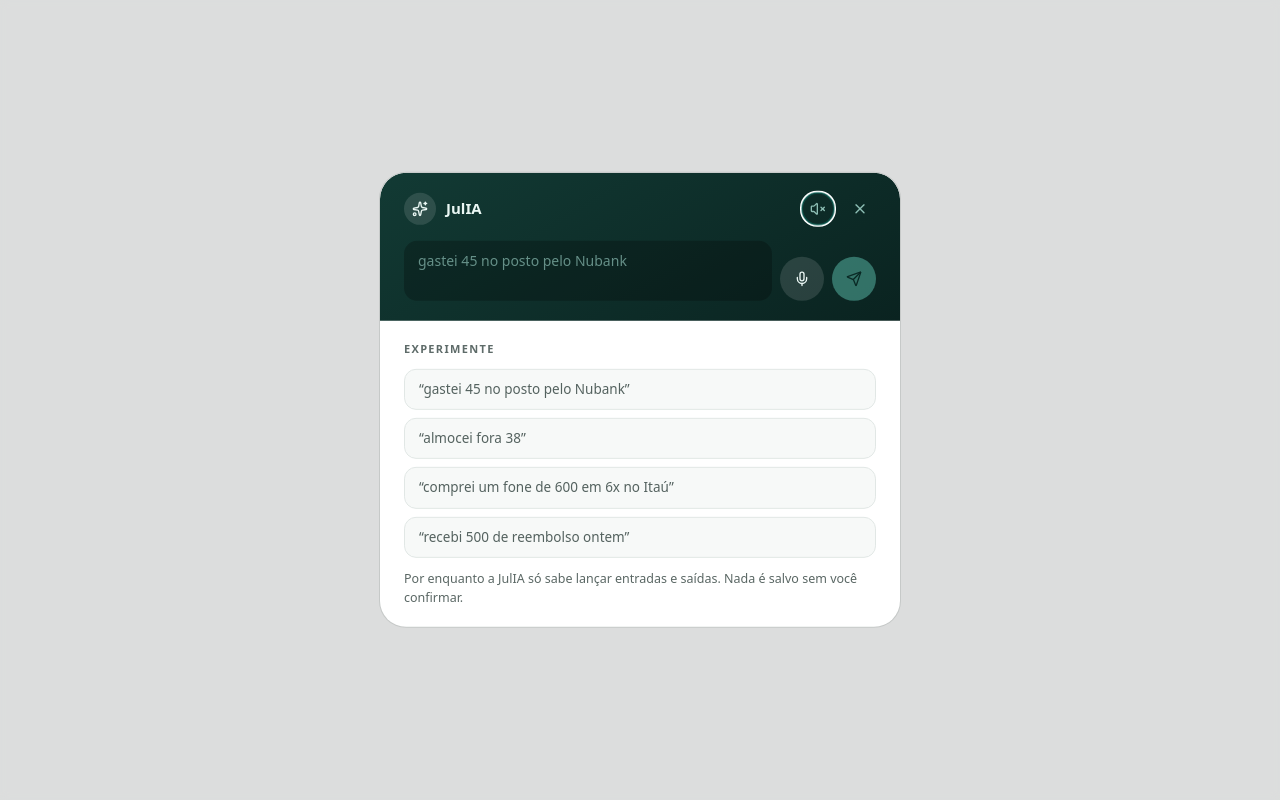
Test case: AssistantSheet › não mostra botão de confirmar quando a IA não propõe ação
Type "apaga tudo" into the text box with placeholder "gastei 45 no posto pelo Nubank" at (588, 271), box [404, 241, 772, 301]
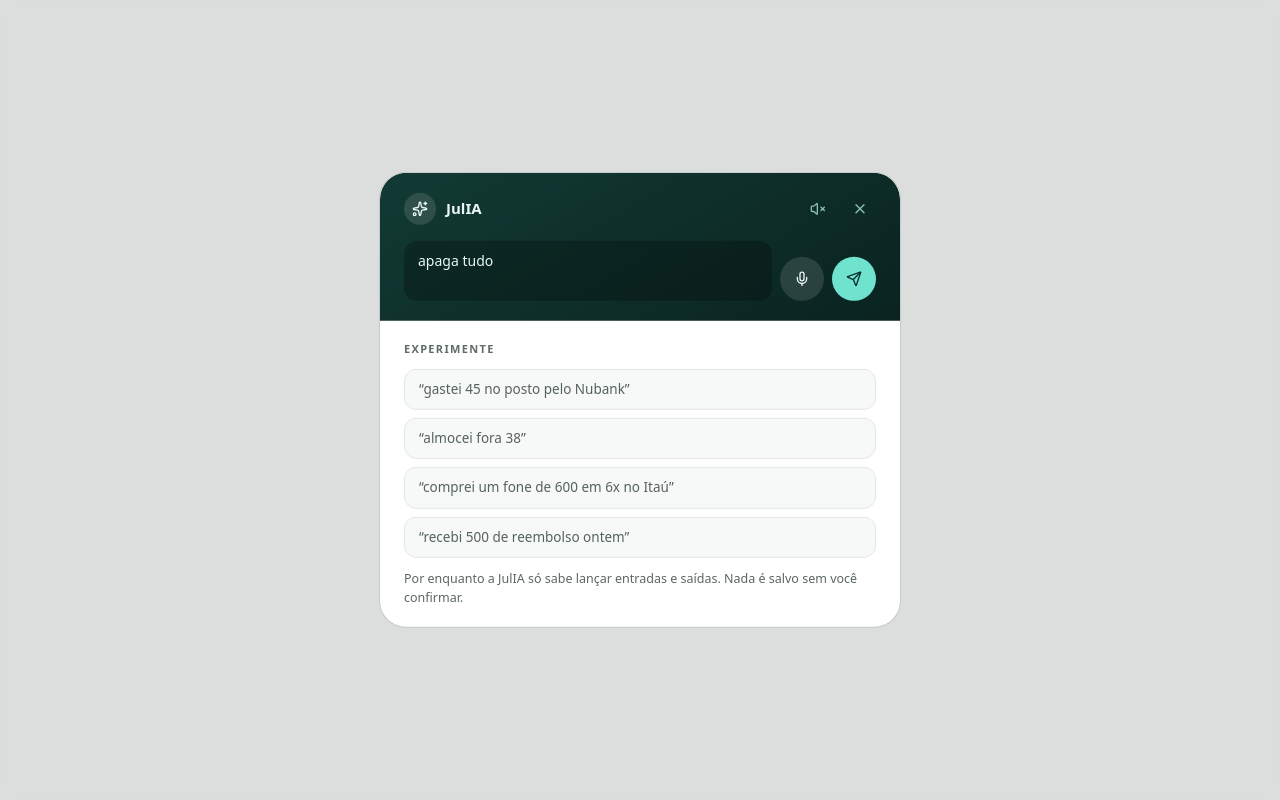
Click the button named "Enviar" at (854, 279), box [832, 257, 876, 301]
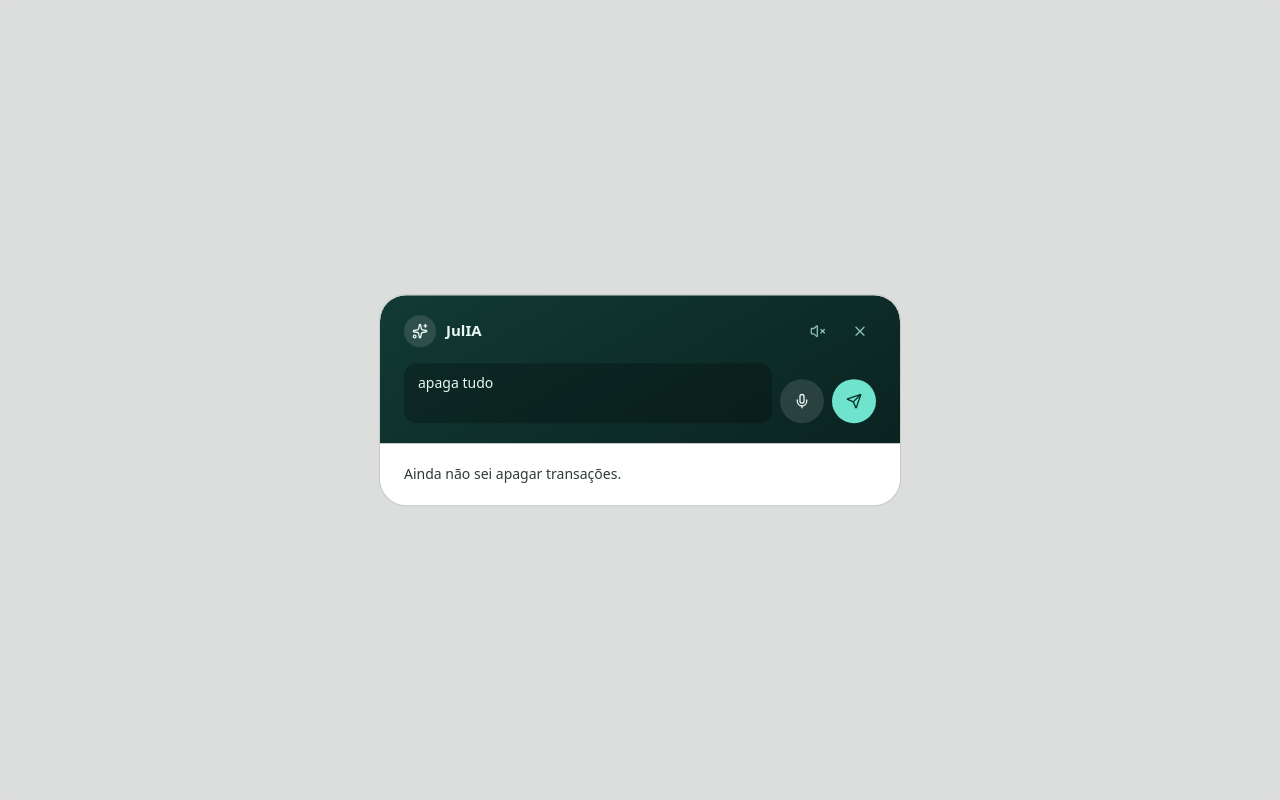
Now the text "Ainda não sei apagar transações." is shown, box [404, 464, 621, 483]
Now the text "Confirmar" is gone
